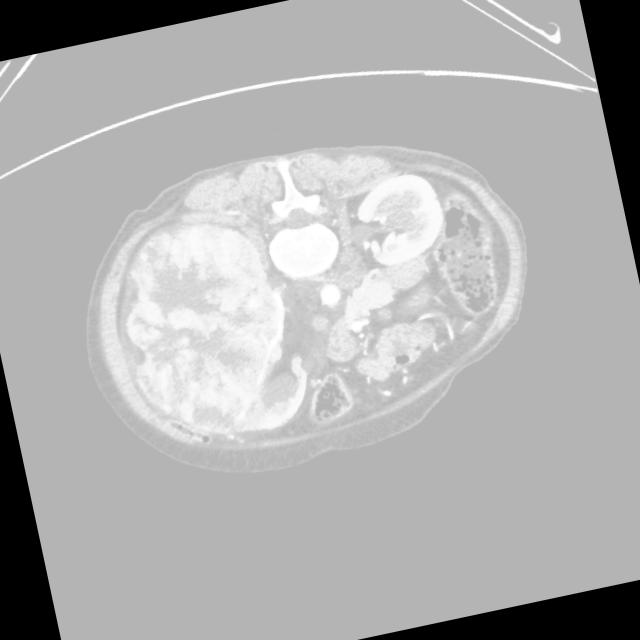TUMOR: (246, 167, 511, 404)
